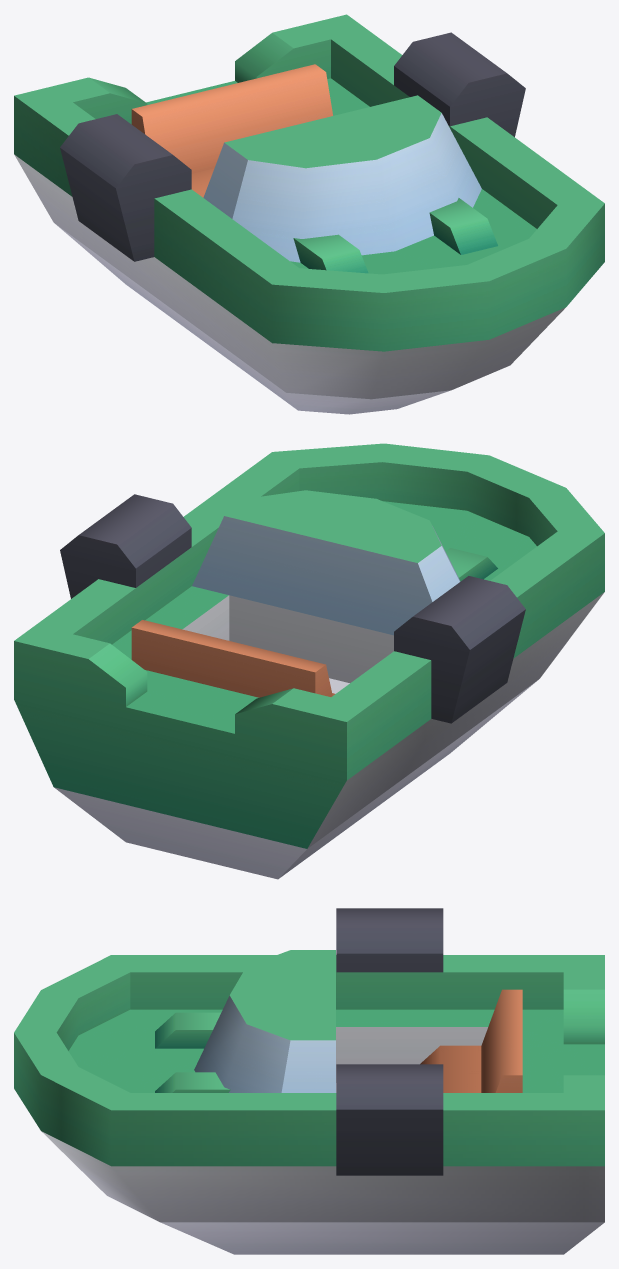
Rendered from boat-speed-f-transformed.glb.
The picture shows the model from 3 angles, top to bottom: view 1: azimuth 30°, elevation 25°; view 2: azimuth 150°, elevation 25°; view 3: azimuth 270°, elevation 25°; orthographic projection. The views are drawn at different scales.
Visible parts, largest first — view 1: boat-speed-f; view 2: boat-speed-f; view 3: boat-speed-f.
Part boxes in pixels (x1,y1,x2,y2): boat-speed-f: [14, 14, 604, 414]; boat-speed-f: [14, 443, 604, 879]; boat-speed-f: [14, 908, 604, 1254].
Bounding box in the file's own units: 2.2 × 1.2 × 2.87.
1 material, 1 textured.
